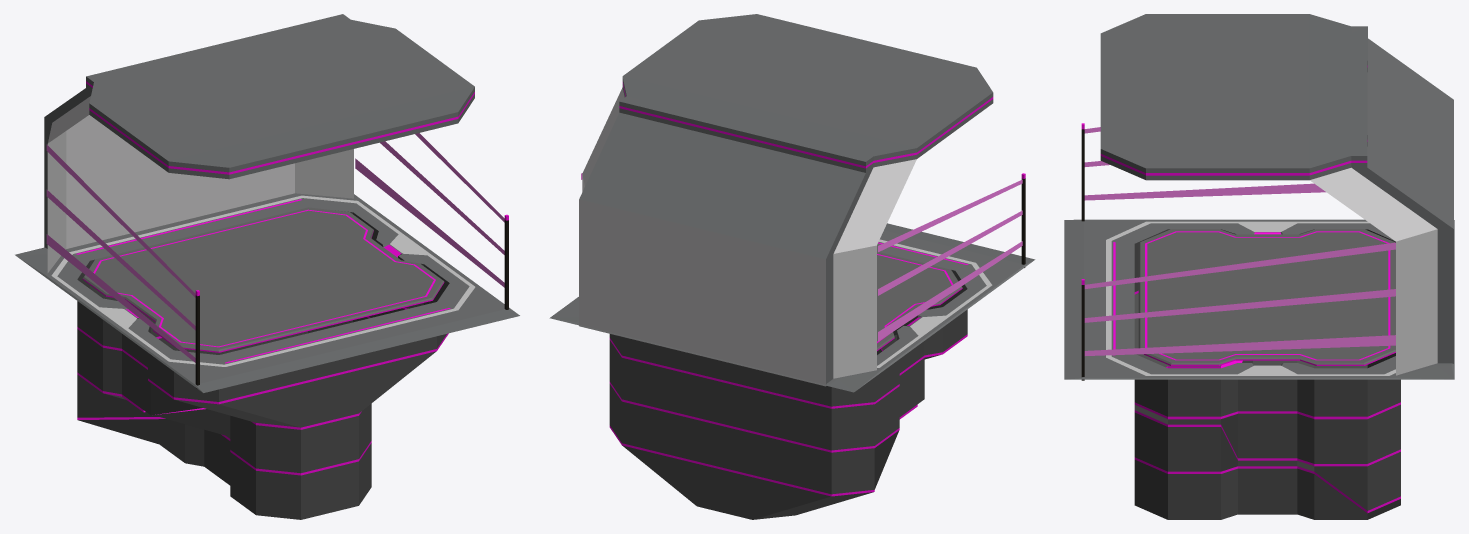
Rendered from Lower_Plaza_Lift.fbx.
3 views of the same model, side by side, from view 1: azimuth 30°, elevation 25°; view 2: azimuth 150°, elevation 25°; view 3: azimuth 270°, elevation 25° (orthographic). The views are drawn at different scales.
Parts seen in each view (by area): view 1: Plaza_Lift, Lower_Plaza_LiftShaft; view 2: Lower_Plaza_LiftShaft, Plaza_Lift; view 3: Plaza_Lift, Lower_Plaza_LiftShaft.
Part boxes in pixels (bbox=[...]): Plaza_Lift: bbox=[15, 193, 519, 519]; Lower_Plaza_LiftShaft: bbox=[44, 14, 508, 388]; Lower_Plaza_LiftShaft: bbox=[579, 14, 1025, 386]; Plaza_Lift: bbox=[549, 223, 1035, 519]; Plaza_Lift: bbox=[1064, 219, 1454, 519]; Lower_Plaza_LiftShaft: bbox=[1081, 14, 1453, 380].
Size of the model in its own units: 24.26 by 28.21 by 25.06.
